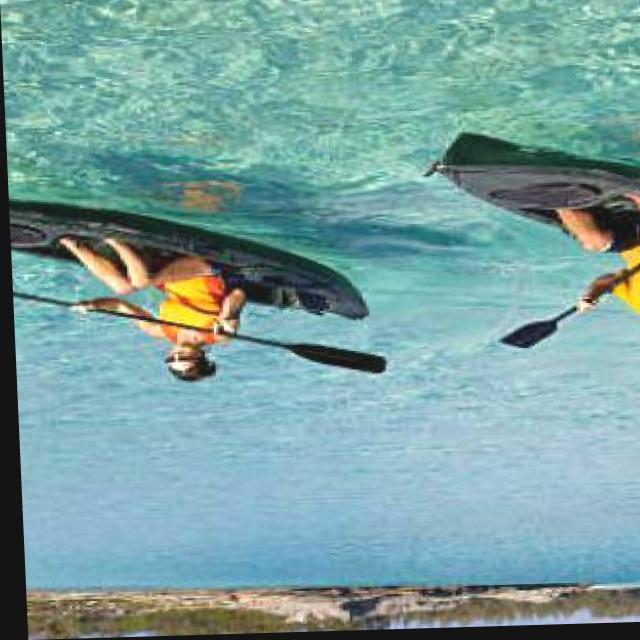kayak: (7, 201, 363, 323), (422, 137, 640, 230)
